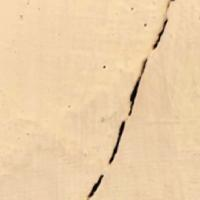crack: (61, 0, 190, 199)
